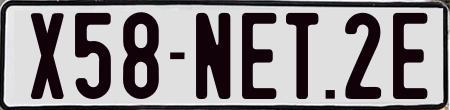2: (343, 10, 380, 99)
5: (74, 12, 116, 103)
8: (122, 10, 162, 102)
E: (393, 10, 432, 102), (240, 11, 274, 101)
N: (195, 11, 233, 99)
T: (283, 10, 315, 102)
X: (28, 13, 64, 105)
